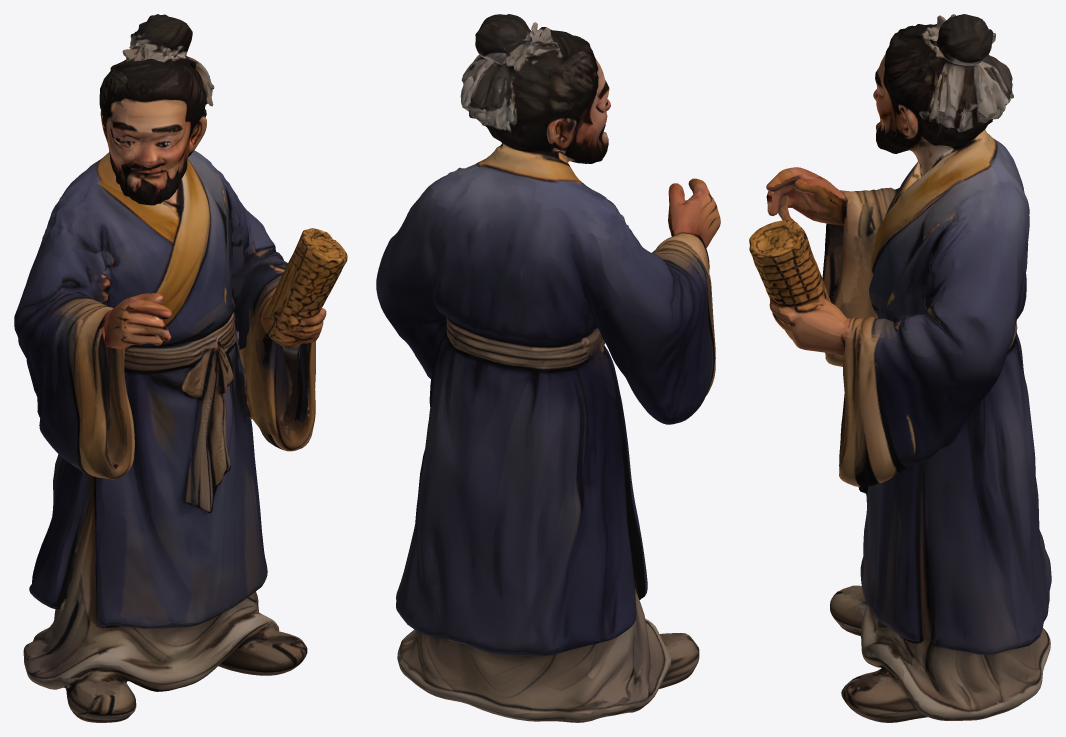
File: mengzi-normal.glb
3 views of the same model, side by side, from view 1: azimuth 30°, elevation 25°; view 2: azimuth 150°, elevation 25°; view 3: azimuth 270°, elevation 25° (orthographic). The views are drawn at different scales.
Parts seen in each view (by area): view 1: 1_output_1793507467651002_rnYQOdGDL; view 2: 1_output_1793507467651002_rnYQOdGDL; view 3: 1_output_1793507467651002_rnYQOdGDL.
Part boxes in pixels (x1=…): 1_output_1793507467651002_rnYQOdGDL: x1=14, y1=14, x2=347, y2=722; 1_output_1793507467651002_rnYQOdGDL: x1=376, y1=14, x2=720, y2=722; 1_output_1793507467651002_rnYQOdGDL: x1=749, y1=14, x2=1051, y2=722.
Bounding box in the file's own units: 0.8988 × 1.99 × 0.8277.
1 material, 1 textured.
